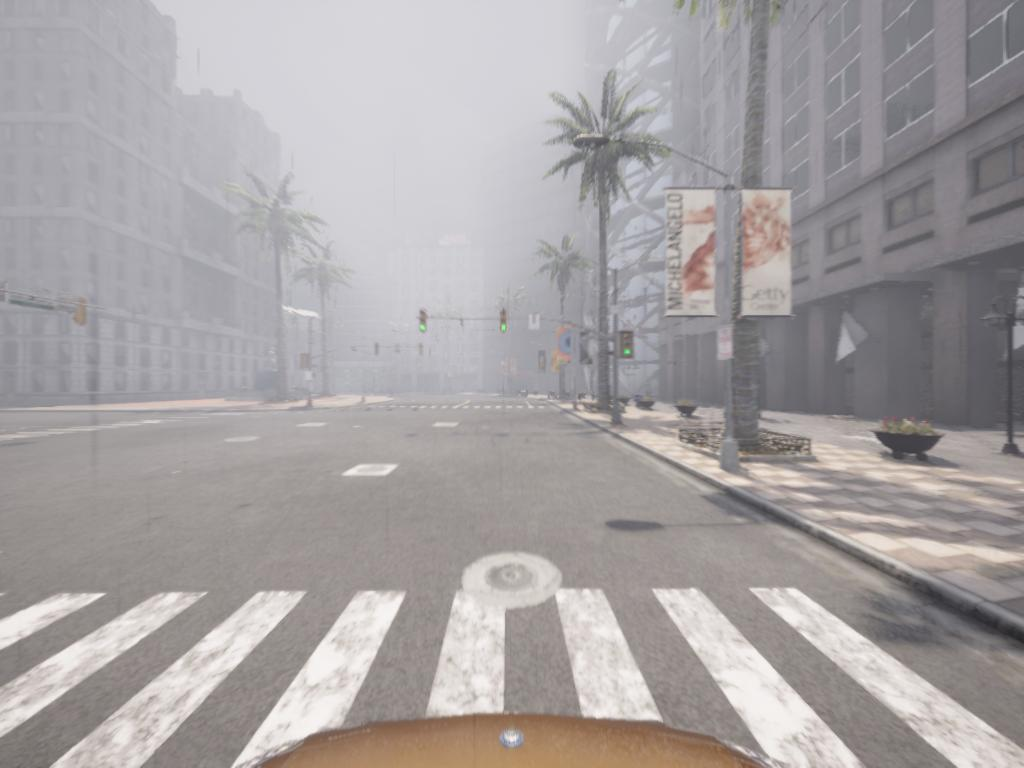traffic_light: (622, 333, 634, 358), (419, 310, 428, 335), (500, 311, 508, 333)
